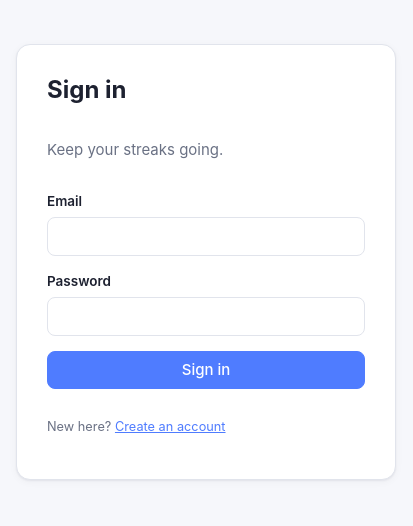
Test: LoginPage › shows the error from the api
Type "demo@example.com" into the field labelled "Email" at coordinates (206, 237), box x1=47 y1=217 x2=365 y2=256
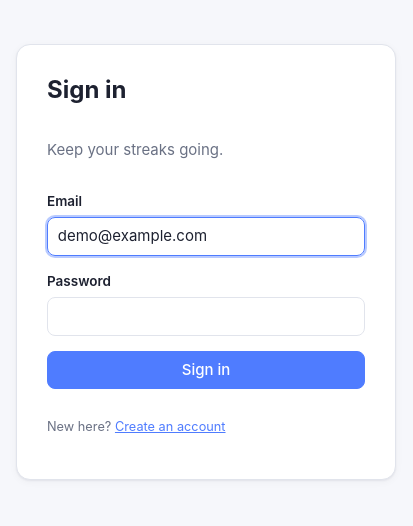
Type "nope" into the password field labelled "Password" at coordinates (206, 317), box x1=47 y1=297 x2=365 y2=336
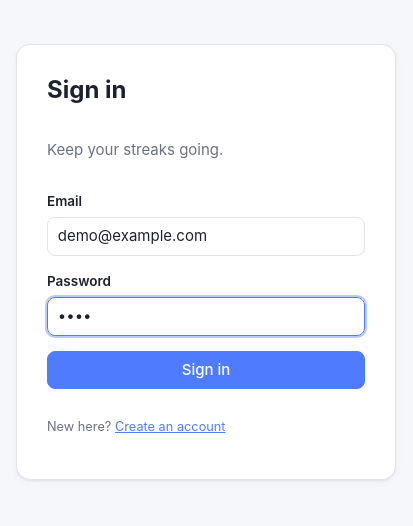
Click the button "Sign in" at coordinates (206, 370), box x1=47 y1=351 x2=365 y2=389
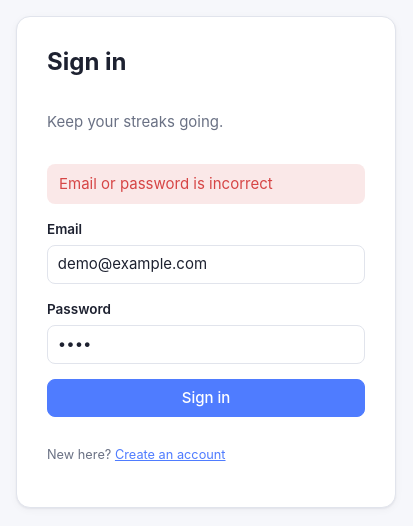
Now the message reads "Email or password is incorrect", box x1=59 y1=174 x2=273 y2=193
